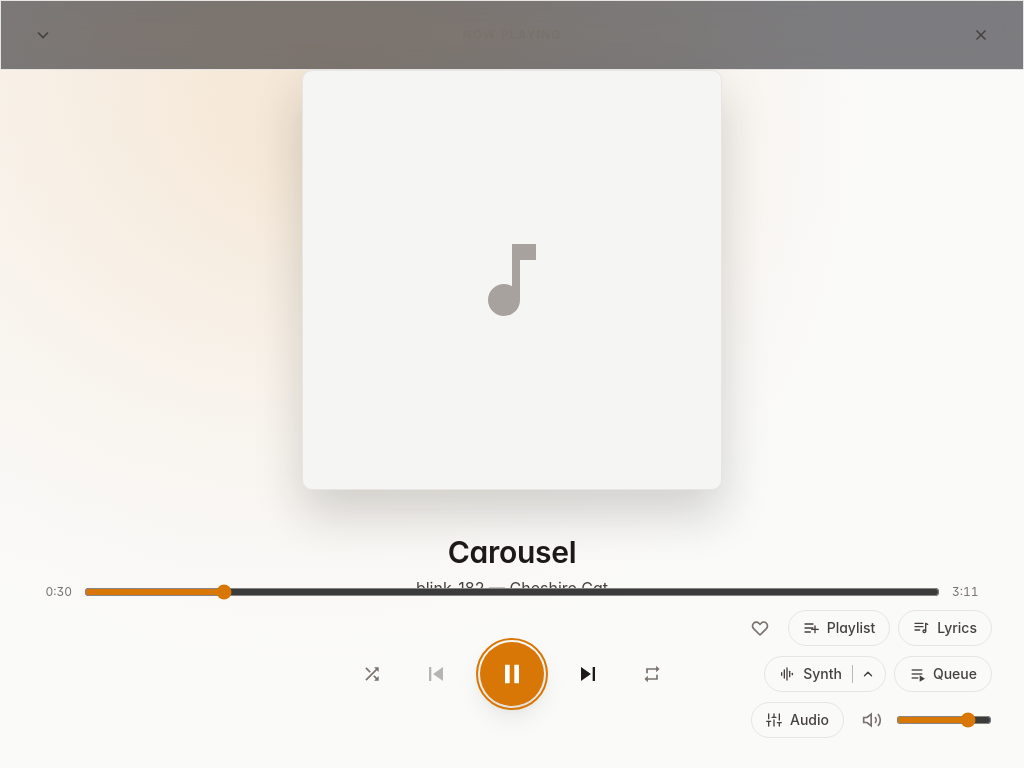
Test case: music now playing › does not label synced lyrics as unsynced
Click the button "Lyrics" at x=945, y=628, box [898,610,992,646]
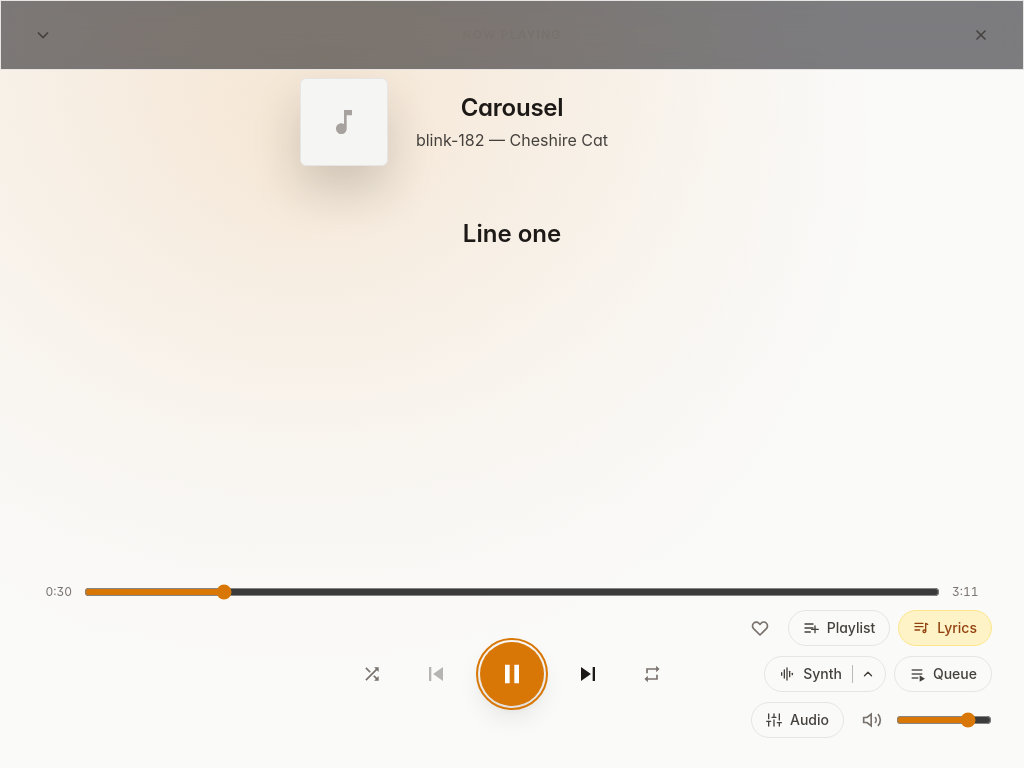
Expected: the text "Line one" is shown, [463,219,561,248]
